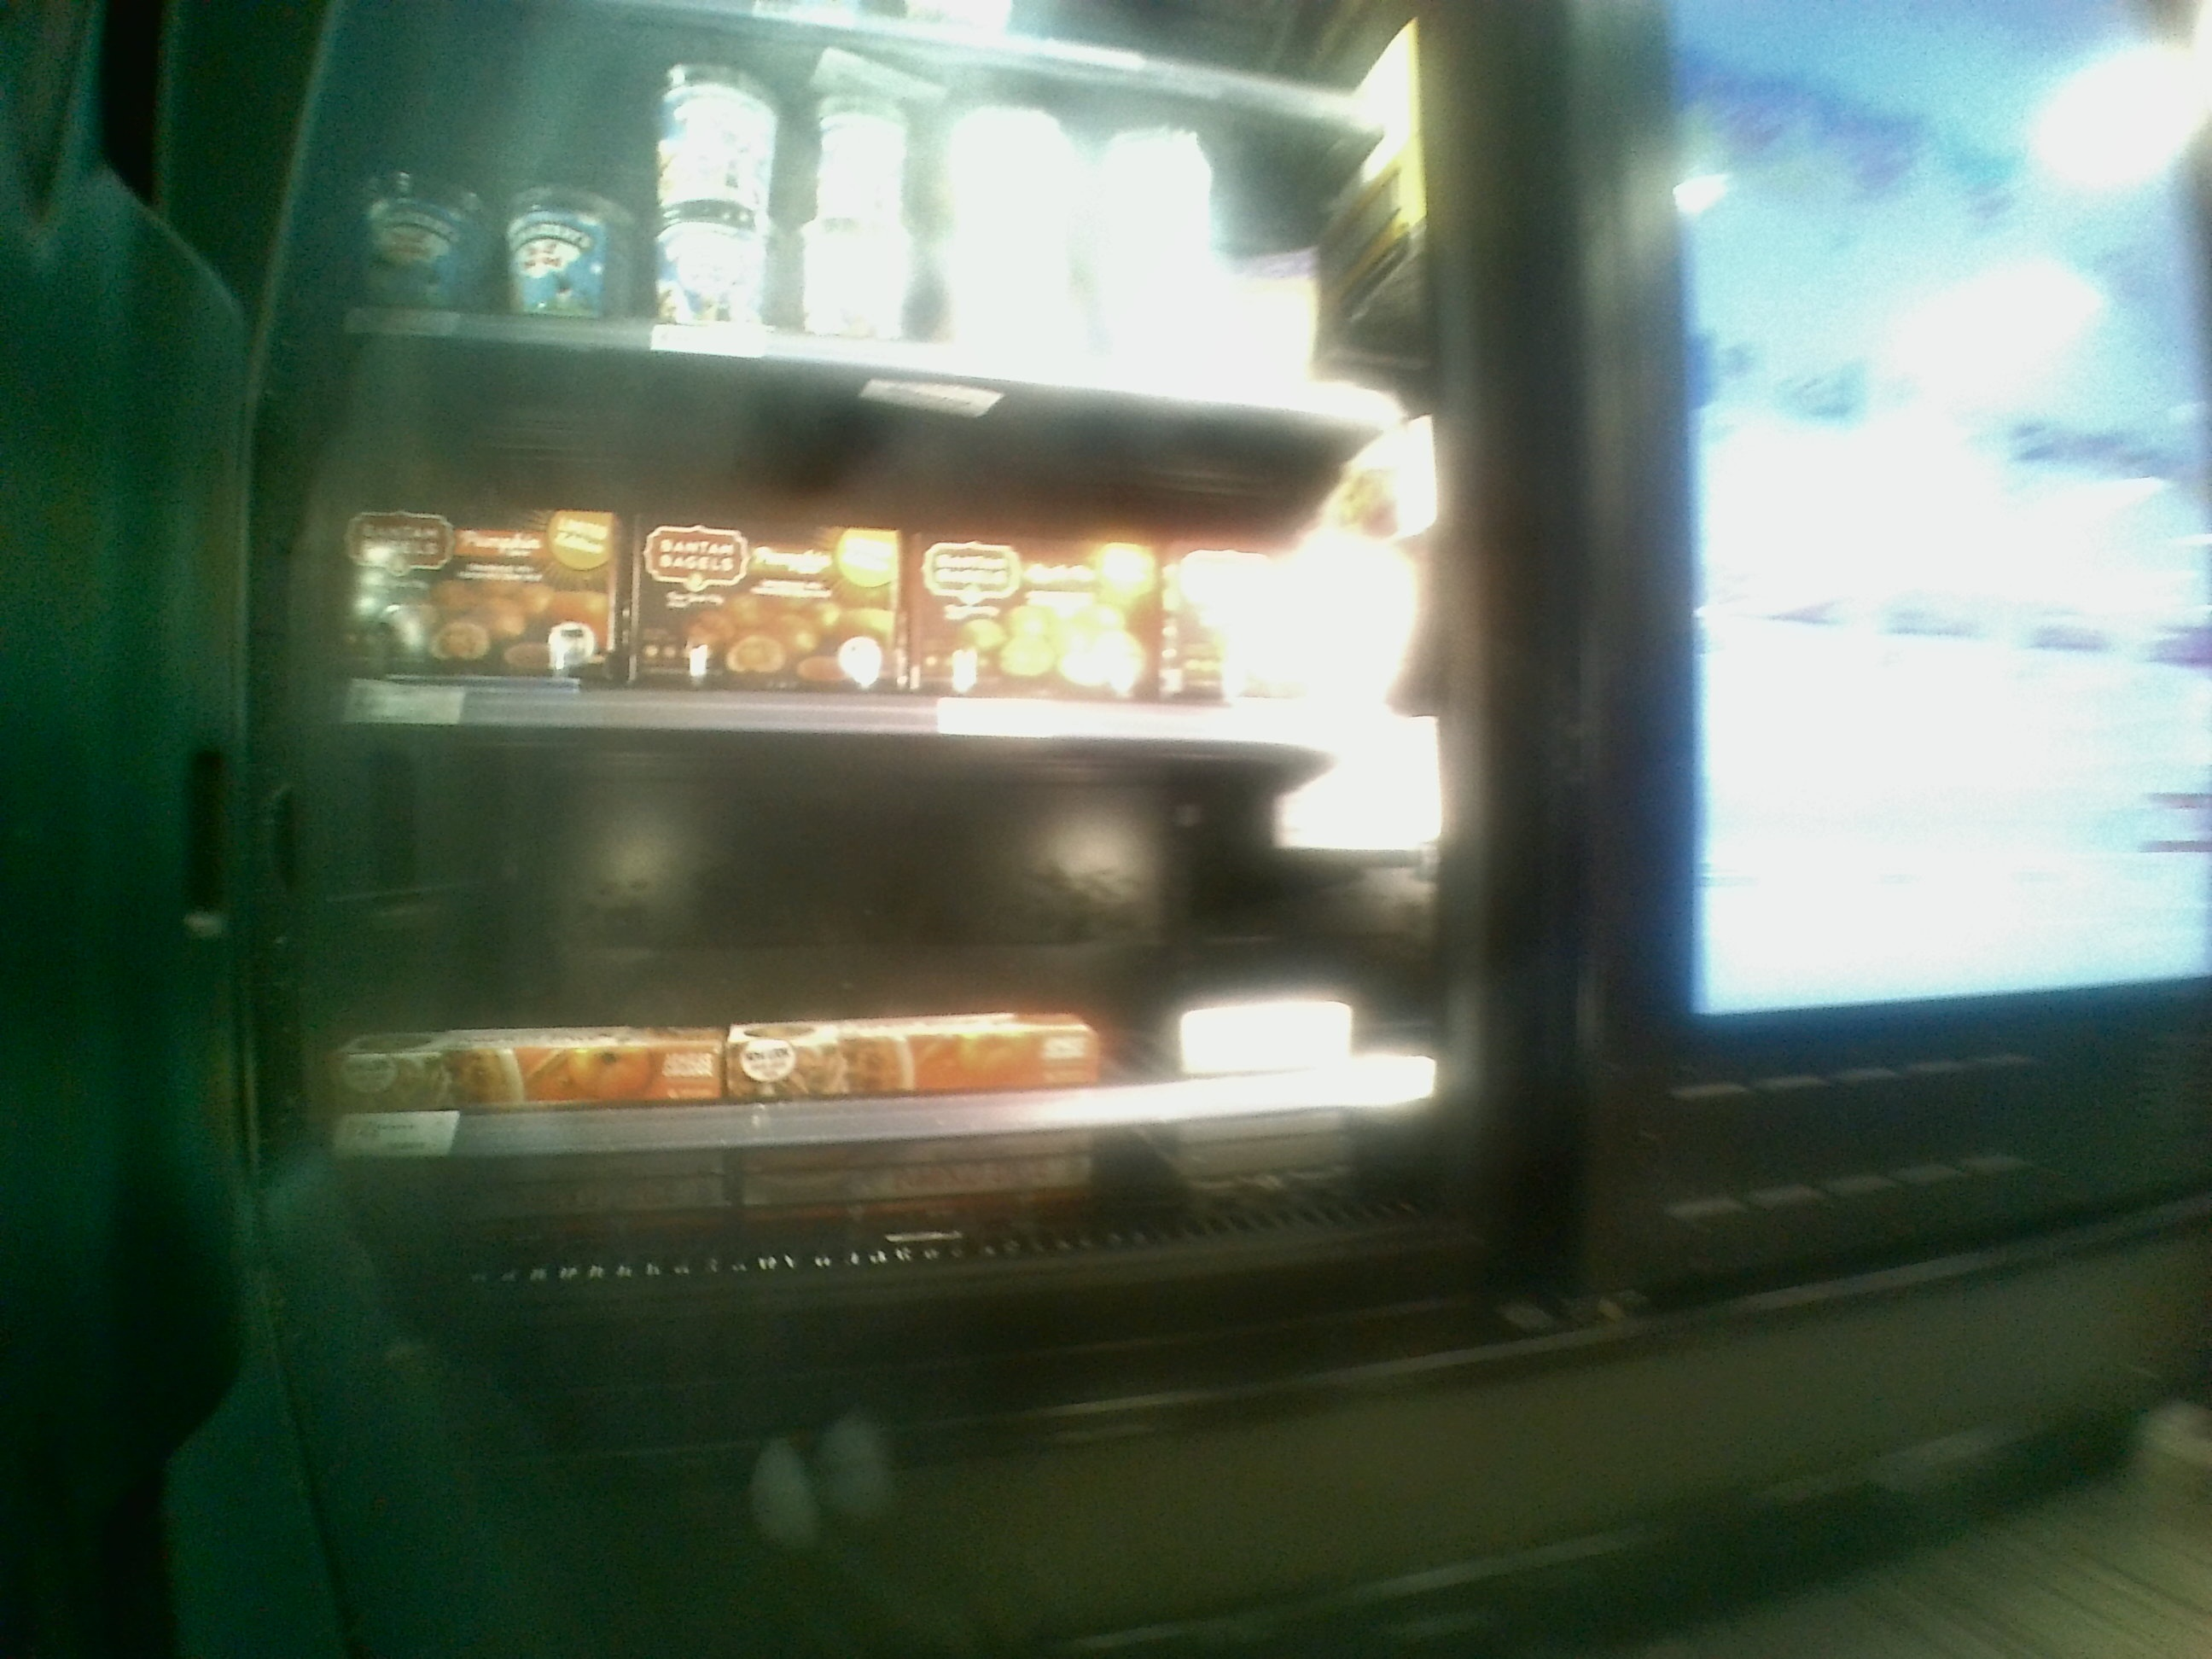shelf: (307, 708, 1456, 1100), (324, 347, 1432, 732)
